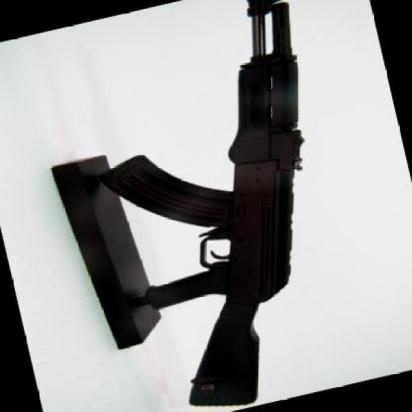Gun: (96, 0, 308, 405)
